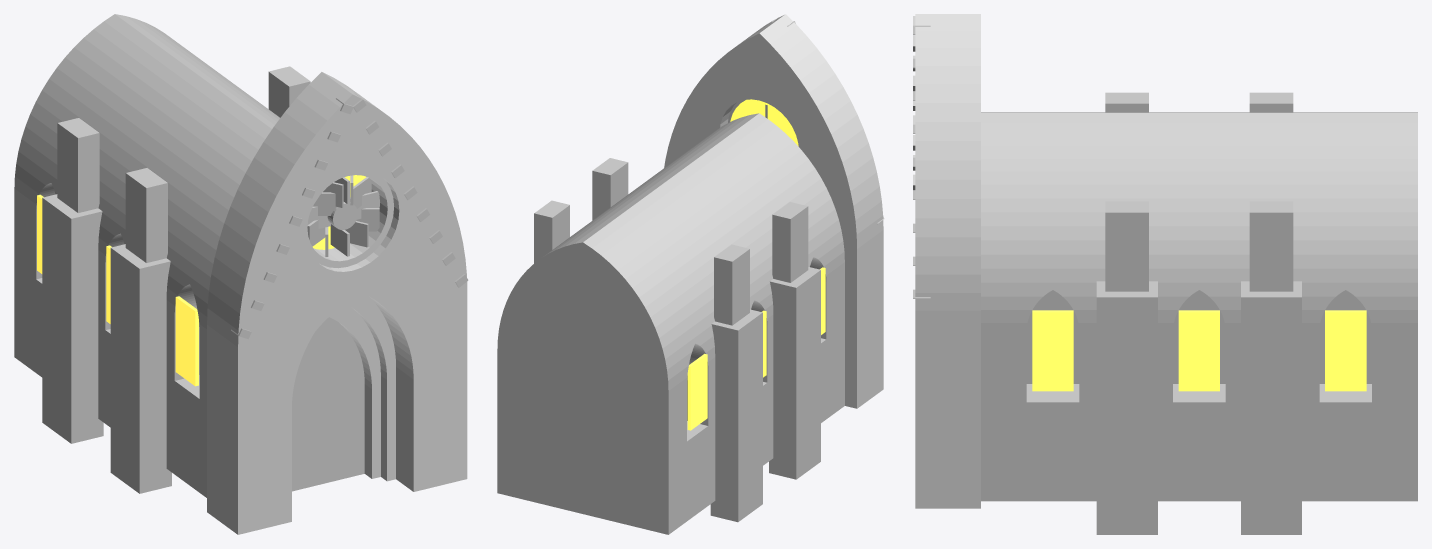
The model's file is Vault.glb.
3 views of the same model, side by side, from view 1: azimuth 30°, elevation 25°; view 2: azimuth 150°, elevation 25°; view 3: azimuth 270°, elevation 25° (orthographic). The views are drawn at different scales.
Visible parts, largest first — view 1: Vault_Side_Hall_Complete, Vault_Facade_Complete, Rose_Window_Tracery; view 2: Vault_Side_Hall_Complete, Vault_Facade_Complete, Rose_Window_Glass_Glow; view 3: Vault_Side_Hall_Complete, Vault_Facade_Complete.
Boxes of the visible parts, x1,y1,x2,y2 form: Vault_Side_Hall_Complete: [14, 14, 364, 497]; Vault_Facade_Complete: [207, 72, 468, 534]; Rose_Window_Tracery: [306, 172, 393, 268]; Vault_Side_Hall_Complete: [497, 113, 844, 534]; Vault_Facade_Complete: [664, 14, 884, 408]; Rose_Window_Glass_Glow: [730, 99, 798, 146]; Vault_Side_Hall_Complete: [981, 92, 1417, 534]; Vault_Facade_Complete: [913, 14, 980, 508].
Size of the model in its own units: 7.1 by 11.5 by 11.55.
